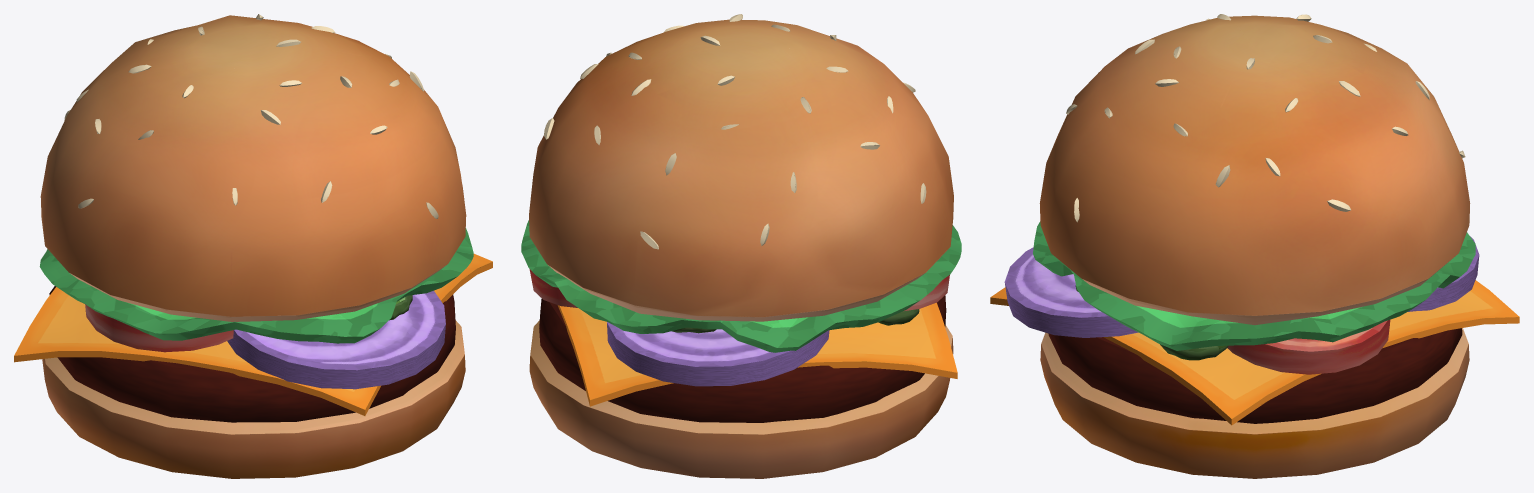
File: krabby_patty.glb
The picture shows the model from 3 angles, left to right: view 1: azimuth 30°, elevation 25°; view 2: azimuth 150°, elevation 25°; view 3: azimuth 270°, elevation 25°; orthographic projection.
Parts seen in each view (by area): view 1: Top Bun, Bottom Bun, Patty, Onion 1, Lettuce, Cheese, Tomato 1, Sesame Seeds; view 2: Top Bun, Bottom Bun, Patty, Cheese, Lettuce, Onion 2, Sesame Seeds, Tomtato 2, Tomato 1; view 3: Top Bun, Bottom Bun, Patty, Lettuce, Cheese, Onion 1, Tomtato 2, Sesame Seeds, Onion 2, Pickle 1.
Part boxes in pixels (x1,y1,x2,y2): Top Bun: (40,15,466,321); Bottom Bun: (42,320,465,478); Patty: (49,286,455,422); Onion 1: (227,290,445,389); Lettuce: (39,228,473,343); Cheese: (14,253,492,415); Tomato 1: (85,304,233,352); Sesame Seeds: (64,14,438,218); Top Bun: (529,19,953,321); Bottom Bun: (529,320,953,478); Patty: (539,295,946,422); Cheese: (557,302,957,406); Lettuce: (521,220,961,352); Onion 2: (607,322,829,386); Sesame Seeds: (544,14,926,249); Tomtato 2: (529,269,577,307); Tomato 1: (903,275,949,311); Top Bun: (1039,15,1470,325); Bottom Bun: (1040,328,1469,478); Patty: (1048,328,1462,423); Lettuce: (1033,221,1475,350); Cheese: (990,280,1519,425); Onion 1: (1004,247,1138,337); Tomtato 2: (1227,320,1390,374); Sesame Seeds: (1066,14,1465,222); Onion 2: (1408,236,1479,311); Pickle 1: (1160,344,1228,360).
Size of the model in its own units: 2.48 by 1.85 by 2.48.
Materials: 9 (9 with a texture image).
